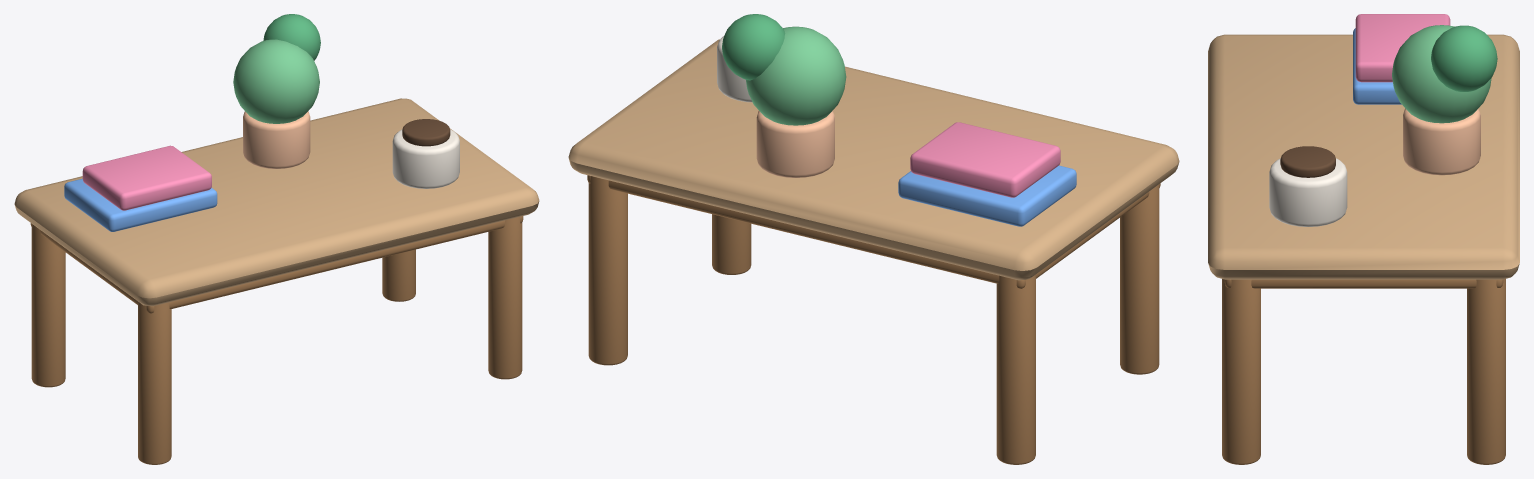
Rendered from table_low.glb.
3 views of the same model, side by side, from view 1: azimuth 30°, elevation 25°; view 2: azimuth 150°, elevation 25°; view 3: azimuth 270°, elevation 25° (orthographic). The views are drawn at different scales.
Visible parts, largest first — view 1: table_low; view 2: table_low; view 3: table_low.
Boxes of the visible parts, bbox=[...] form: table_low: bbox=[14, 14, 539, 464]; table_low: bbox=[568, 14, 1179, 464]; table_low: bbox=[1208, 14, 1519, 464].
Bounding box in the file's own units: 0.96 × 0.72 × 0.56.
